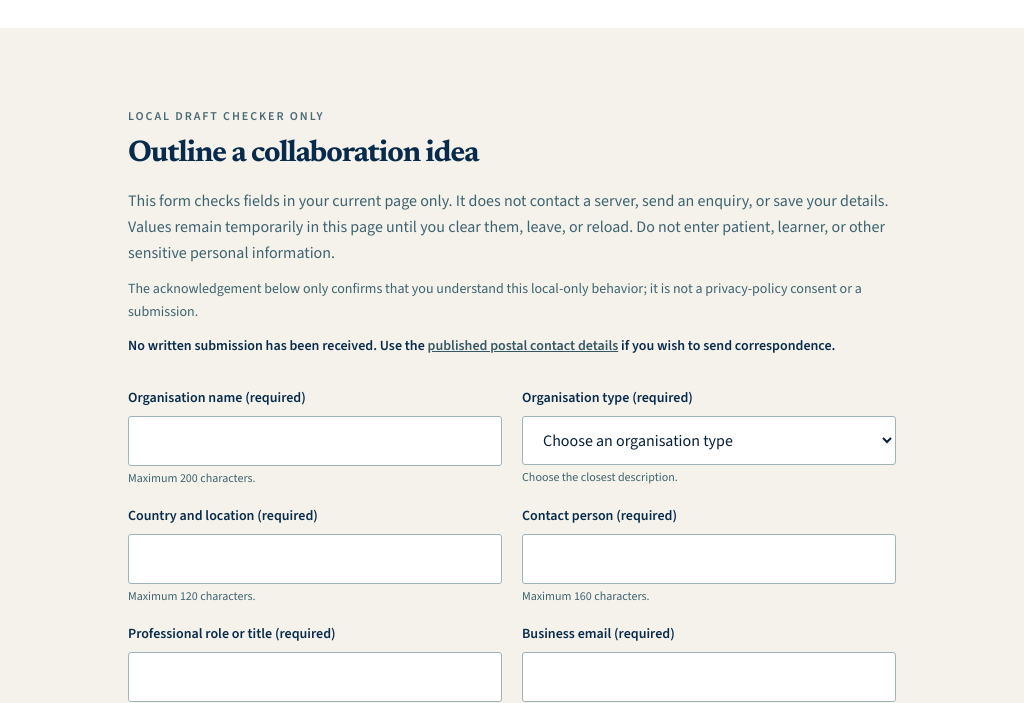
public enquiry surfaces › clears local draft values and validation status on request
(page scrolled)
Type "Northside Learning Group" into the field labelled "Organisation name (required)" at (315, 441), box [128, 416, 502, 466]
(page scrolled)
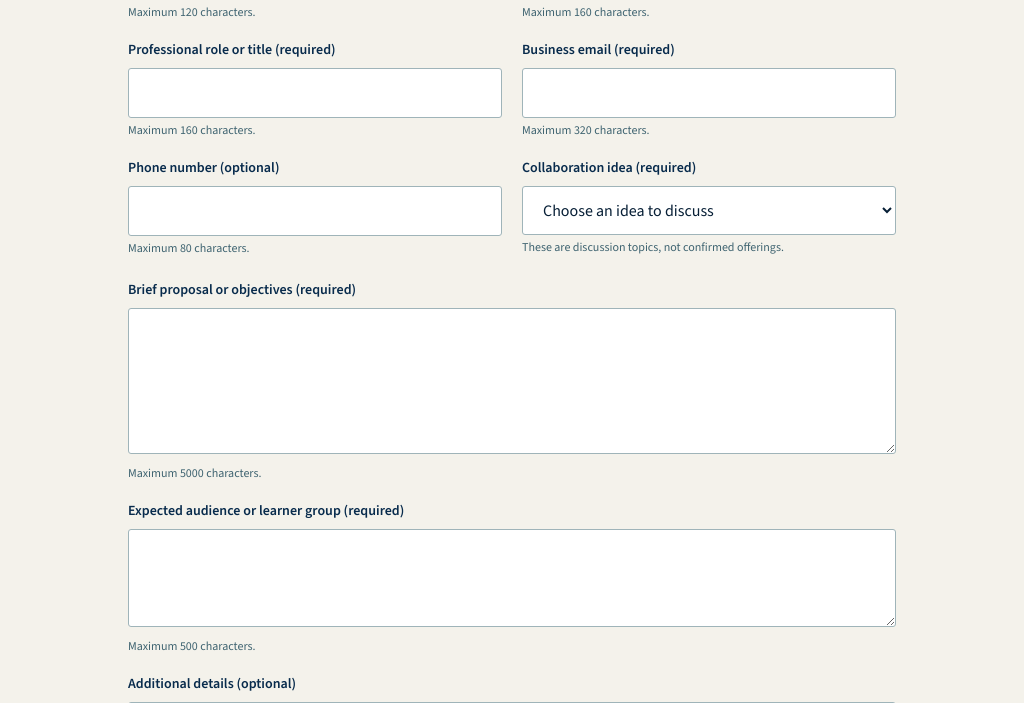
Submit the form named "Outline a collaboration idea"
(page scrolled)
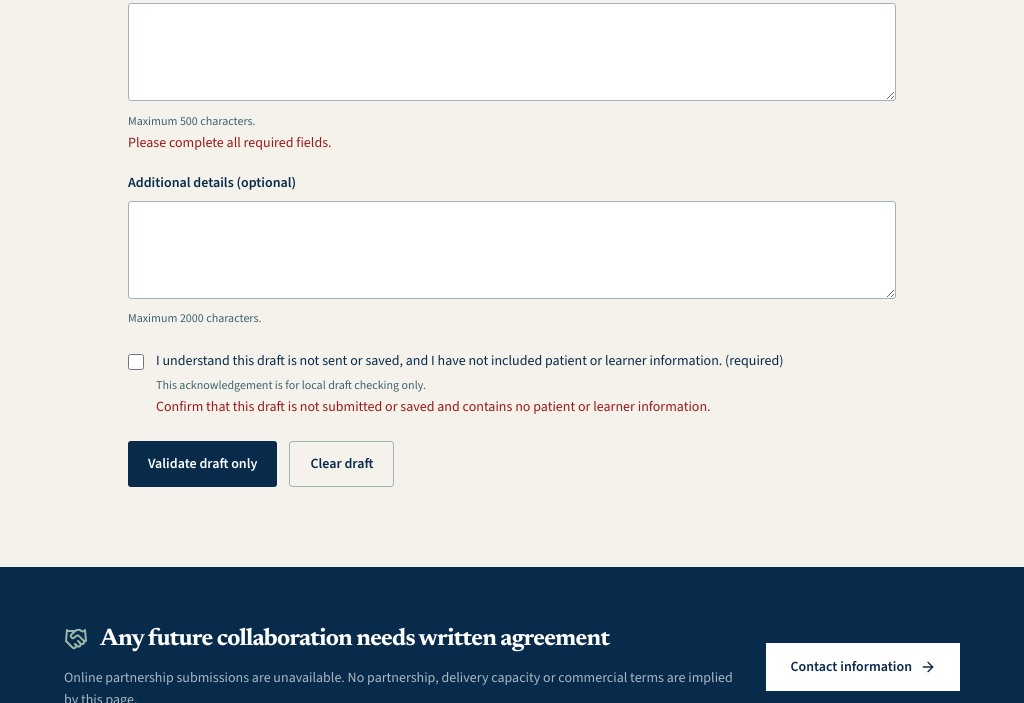
Click the button "Clear draft" at (342, 464), box [289, 441, 394, 487]
(page scrolled)
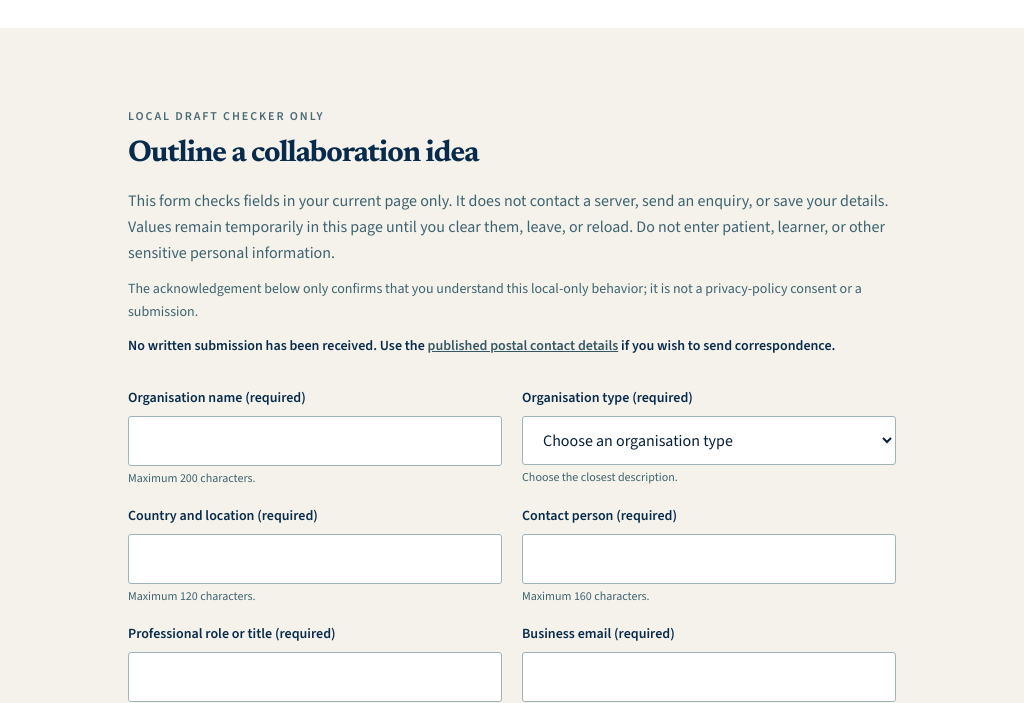
Now the field labelled "Organisation name (required)" is empty, box [128, 416, 502, 466]
